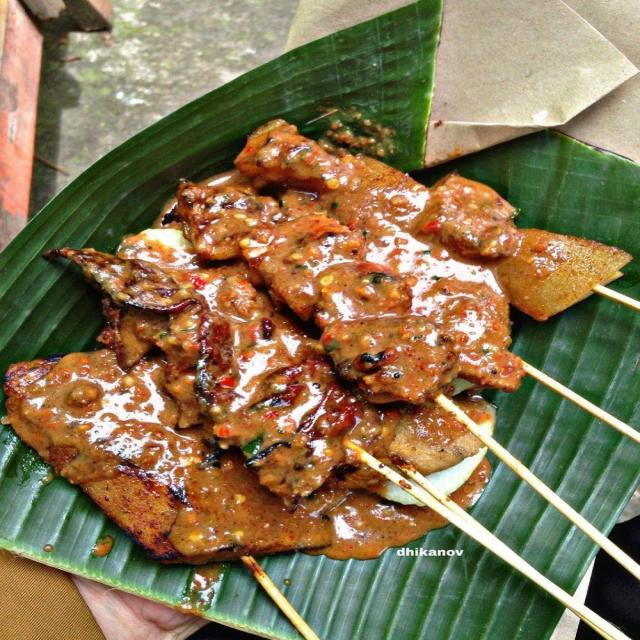Sate: (87, 184, 591, 640)
